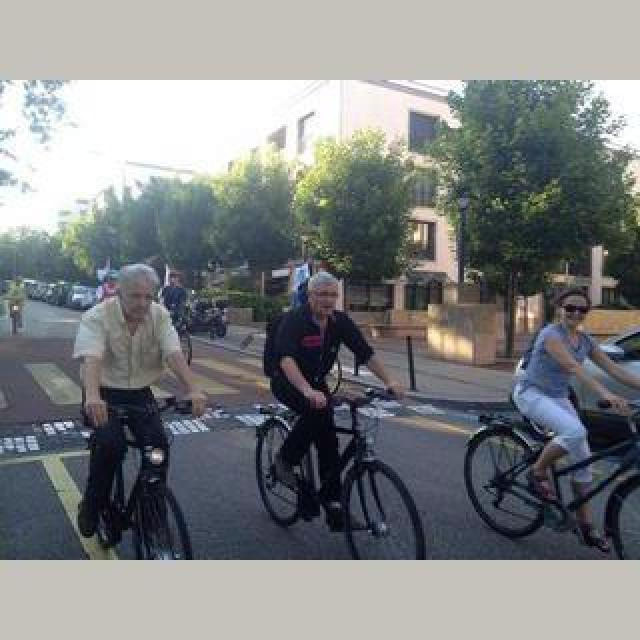MC-Bike: (72, 262, 202, 544), (266, 268, 404, 520), (510, 290, 636, 522), (160, 270, 190, 356)
Person: (250, 390, 426, 560), (464, 396, 640, 556), (78, 398, 194, 560)
